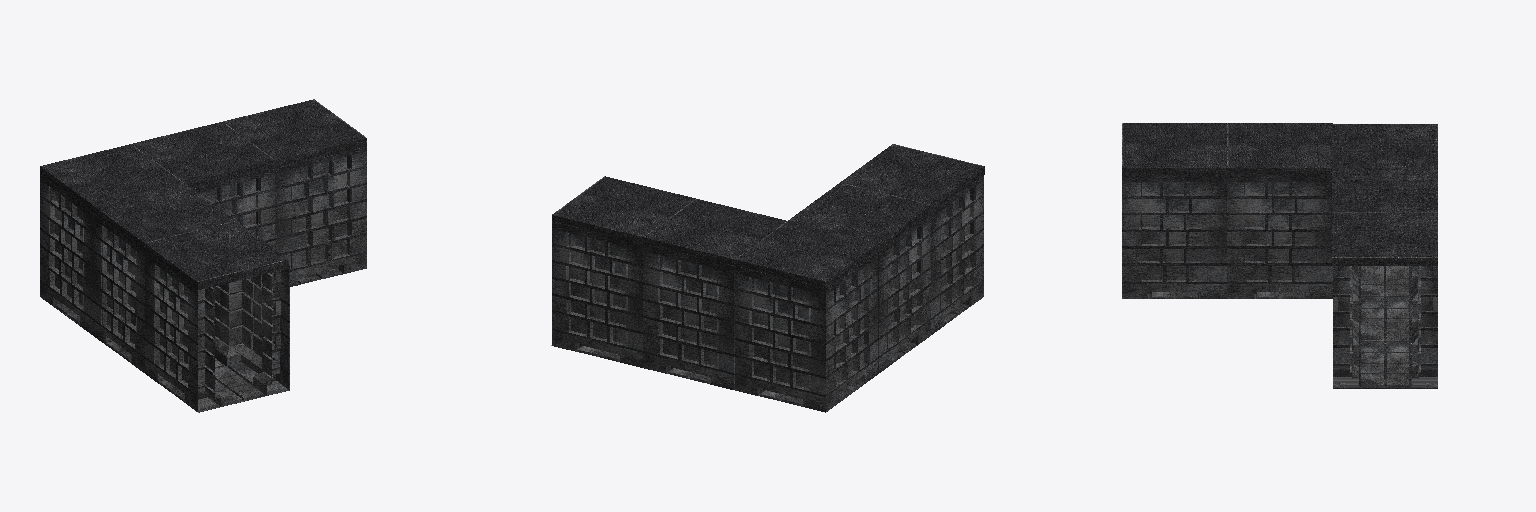
3 renders of one model, left to right at view 1: azimuth 30°, elevation 25°; view 2: azimuth 150°, elevation 25°; view 3: azimuth 270°, elevation 25°, orthographic.
Parts seen in each view (by area): view 1: Sol.005_Plane.083, Sol.008_Plane.086, Sol.006_Plane.084, Sol.007_Plane.085, Mur.R.002_Plane.116, Plafond.001_Cube.148; view 2: Sol.007_Plane.085, Sol.008_Plane.086, Sol.005_Plane.083, Sol.006_Plane.084, Mur.R.001_Plane.115, Plafond.001_Cube.148, Mur.R.002_Plane.116; view 3: Sol.006_Plane.084, Sol.005_Plane.083, Sol.008_Plane.086, Sol.007_Plane.085, Plafond.001_Cube.148, Sol.036_Plane.114.
Boxes of the visible parts, <box> form: Sol.005_Plane.083: <box>145,221,289,412</box>; Sol.008_Plane.086: <box>223,99,366,286</box>; Sol.006_Plane.084: <box>92,183,235,372</box>; Sol.007_Plane.085: <box>132,122,275,248</box>; Mur.R.002_Plane.116: <box>40,175,91,333</box>; Plafond.001_Cube.148: <box>40,144,183,212</box>; Sol.007_Plane.085: <box>643,199,786,389</box>; Sol.008_Plane.086: <box>551,176,695,367</box>; Sol.005_Plane.083: <box>840,144,984,334</box>; Sol.006_Plane.084: <box>788,183,931,373</box>; Mur.R.001_Plane.115: <box>735,266,825,411</box>; Plafond.001_Cube.148: <box>735,221,878,289</box>; Mur.R.002_Plane.116: <box>826,253,877,411</box>; Sol.006_Plane.084: <box>1227,123,1332,298</box>; Sol.005_Plane.083: <box>1122,123,1226,298</box>; Sol.008_Plane.086: <box>1332,213,1437,388</box>; Sol.007_Plane.085: <box>1332,168,1437,343</box>; Plafond.001_Cube.148: <box>1332,124,1437,167</box>; Sol.036_Plane.114: <box>1353,266,1417,298</box>.
Bounding box in the file's own units: 17.69 × 8.05 × 17.67.
Materials: 4 (2 with a texture image).